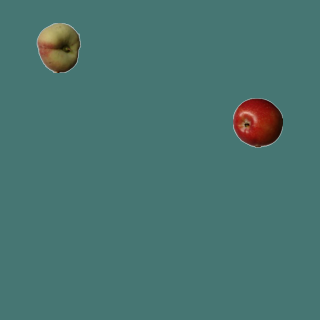Apple Braeburn: (232, 97, 282, 147)
Peach Flat: (33, 22, 83, 72)
